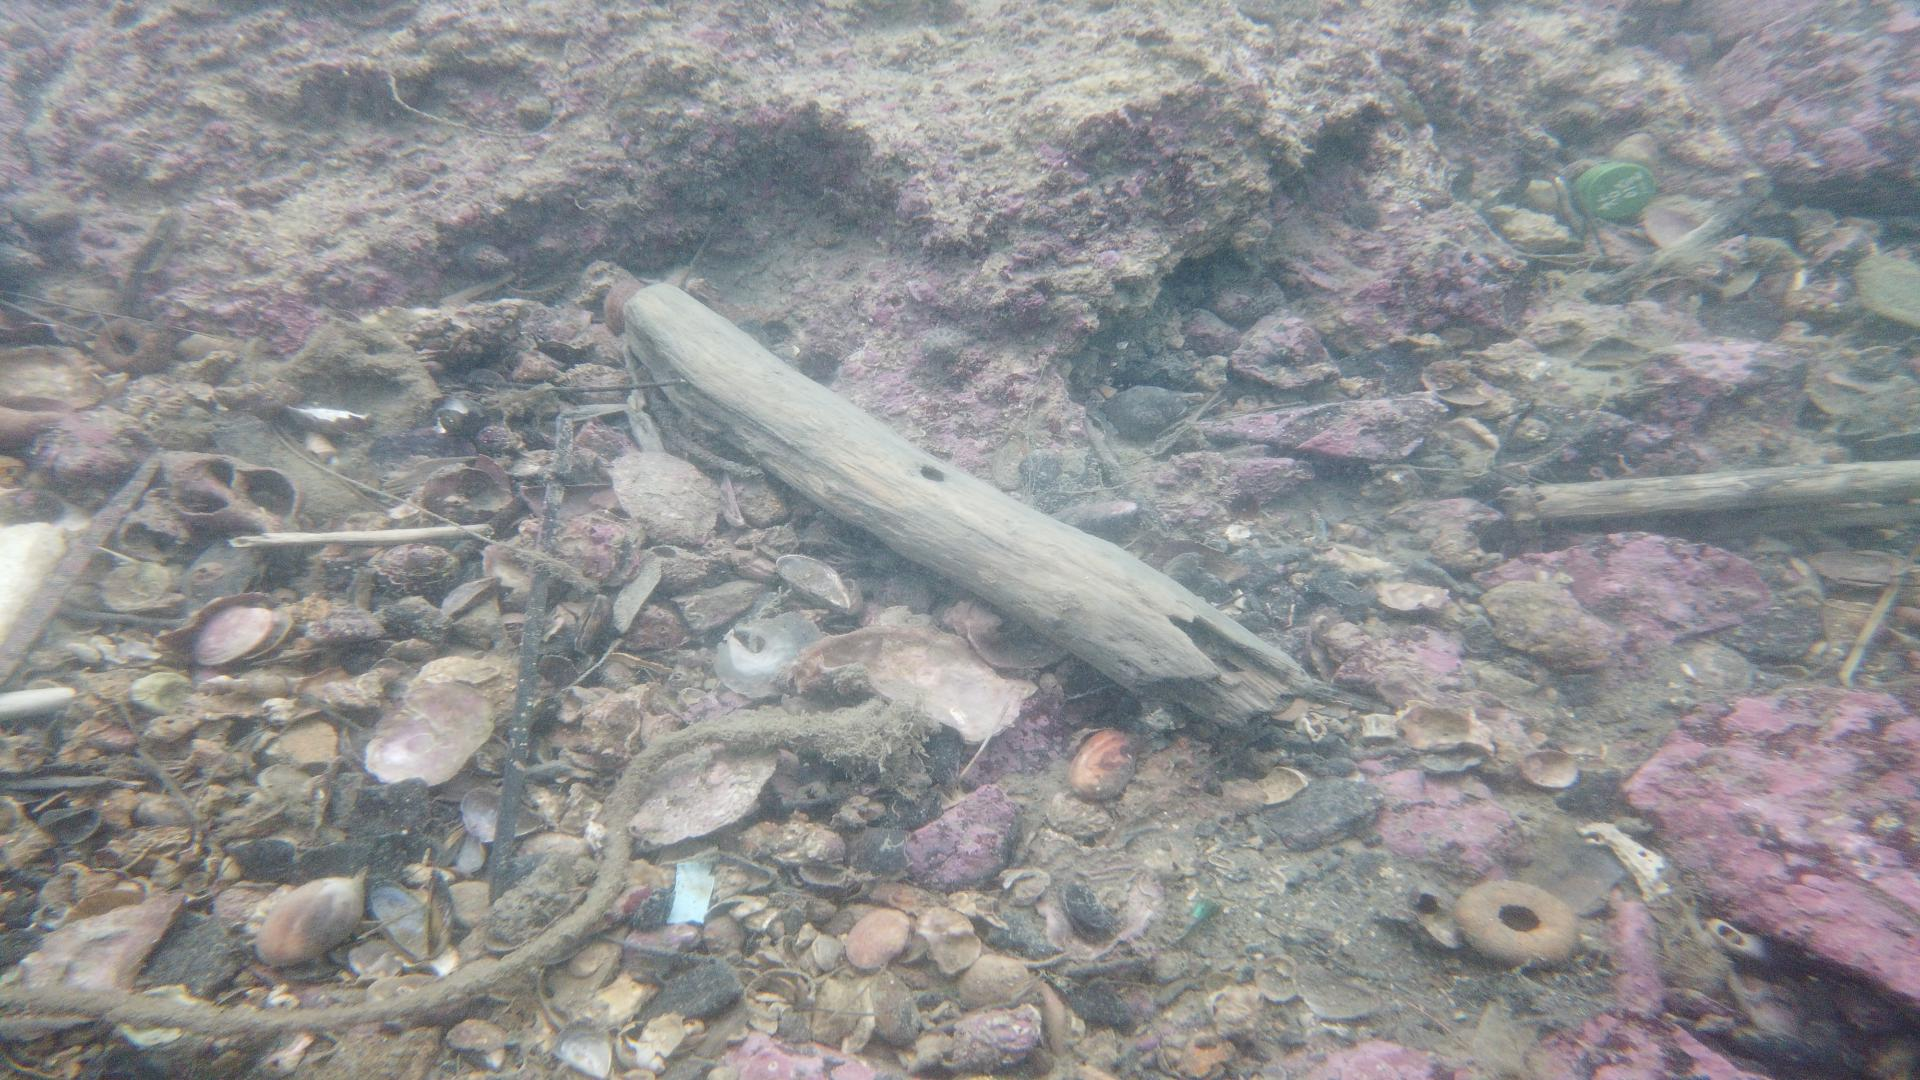rope: (0, 702, 887, 1036)
wood: (618, 280, 1313, 735), (1509, 456, 1920, 529)
